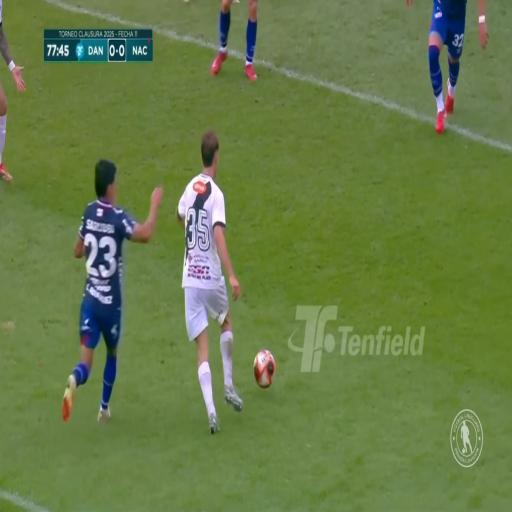Ball: (252, 348, 277, 390)
Player: (174, 134, 244, 421), (78, 162, 128, 422)
